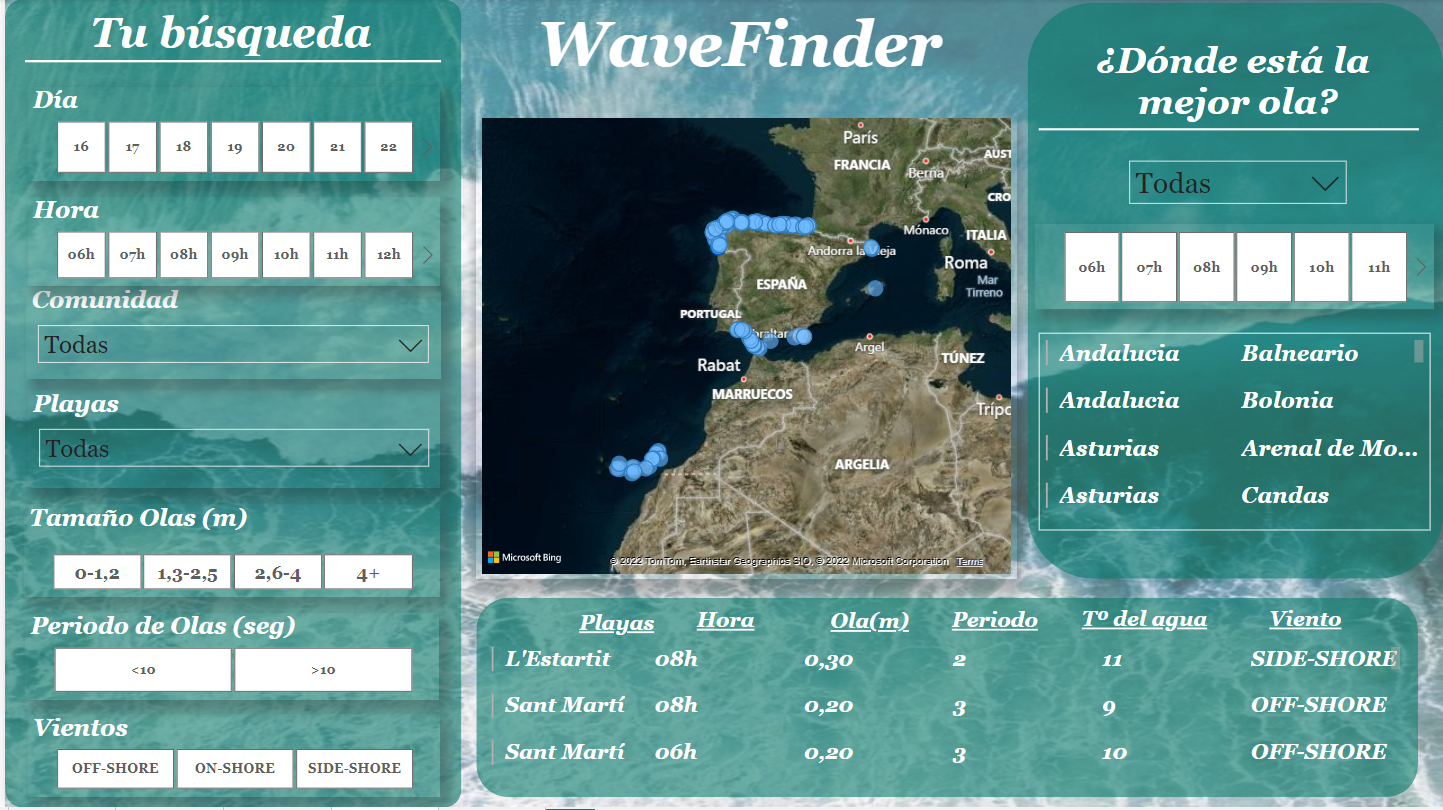

This screenshot's page, from the dashboard's own definition file:
{"tool":"powerbi","page":{"name":"Página 1","canvas":[1280,720],"ordinal":0},"visuals":[{"type":"map","fields":{"Y":["Sheet1.Latitud"],"X":["Sheet1.Longitud"],"Series":["Sheet1.Playas"]},"box":[590.6,134.6,572.7,372.2],"z":0},{"type":"shape","box":[11.4,75.7,472.9,644.3],"z":1000},{"type":"slicer","fields":{"Values":["Sheet1.Playas"]},"box":[31.4,398.6,427.1,60],"z":2000},{"type":"slicer","fields":{"Values":["Sheet1.Comunidad"]},"box":[31.4,297.1,427.1,62.9],"z":3000},{"type":"slicer","fields":{"Values":["playas.Hour"]},"box":[32.9,205.7,427.1,62.9],"z":4000},{"type":"textbox","box":[62.9,1.4,311.4,75.7],"z":5000},{"type":"textbox","box":[214.3,77.1,60,35.7],"z":6000},{"type":"textbox","box":[201.4,180,95.7,50],"z":7000},{"type":"textbox","box":[172.9,271.4,148.6,50],"z":8000},{"type":"textbox","box":[197.1,360,94.3,38.6],"z":9000},{"type":"shape","box":[495,532.5,763.8,187.5],"z":10000},{"type":"multiRowCard","fields":{"Values":["Sheet1.Playas","playas.Hour","playas.Wave","playas.Period","playas.Temperature","playas.Degrees"]},"box":[483.8,582.5,775,127.5],"z":11000},{"type":"textbox","box":[506.2,540,105,42.5],"z":12000},{"type":"textbox","box":[611.2,537.5,82.5,47.5],"z":13000},{"type":"textbox","box":[730,538.8,107.5,45],"z":14000},{"type":"textbox","box":[837.5,537.5,102.5,43.8],"z":15000},{"type":"textbox","box":[953.8,536.2,126.2,48.8],"z":16000},{"type":"textbox","box":[1120.4,536.7,127.8,51.9],"z":17000},{"type":"slicer","fields":{"Values":["playas.Date"]},"box":[32.9,112.9,424.3,67.1],"z":18000},{"type":"slicer","fields":{"Values":["playas.wave_group"]},"box":[30,484.3,427.1,61.4],"z":19000},{"type":"textbox","box":[148.6,458.6,251.4,50],"z":20000},{"type":"actionButton","box":[0,0,100,40],"z":21000},{"type":"slicer","fields":{"Values":["playas.Period_Group"]},"box":[31.4,581.4,427.1,48.6],"z":22000},{"type":"textbox","box":[131.4,550,285.7,37.1],"z":23000},{"type":"slicer","fields":{"Values":["playas.Degrees"]},"box":[31.4,645.7,428.6,64.3],"z":24000},{"type":"textbox","box":[182.9,631.4,108.6,47.1],"z":25000},{"type":"shape","box":[494.5,2.4,763.4,117],"z":26000},{"type":"slicer","fields":{"Values":["playas.Date"]},"box":[557.2,39.8,213.5,55.5],"z":26001},{"type":"multiRowCard","fields":{"Values":["Sheet1.Comunidad","Sheet1.Playas"]},"box":[837,14.5,388.3,92.9],"z":26002},{"type":"textbox","box":[512.6,2.4,317.2,45.8],"z":26003}]}

Visuals, with their boxes in screenshot pixels (x1, y1, x2, y2), scaled from the page's 1280x720 canvas onto the 1443x810 screenshot:
map - Sheet1.Latitud x Sheet1.Longitud: (left=666, top=151, right=1311, bottom=570)
shape: (left=13, top=85, right=546, bottom=809)
slicer - Sheet1.Playas: (left=35, top=448, right=517, bottom=516)
slicer - Sheet1.Comunidad: (left=35, top=334, right=517, bottom=405)
slicer - playas.Hour: (left=37, top=231, right=519, bottom=302)
textbox: (left=71, top=2, right=422, bottom=87)
textbox: (left=242, top=87, right=309, bottom=127)
textbox: (left=227, top=202, right=335, bottom=259)
textbox: (left=195, top=305, right=362, bottom=362)
textbox: (left=222, top=405, right=329, bottom=448)
shape: (left=558, top=599, right=1419, bottom=809)
multiRowCard - Sheet1.Playas x playas.Hour: (left=545, top=655, right=1419, bottom=799)
textbox: (left=571, top=608, right=689, bottom=655)
textbox: (left=689, top=605, right=782, bottom=658)
textbox: (left=823, top=606, right=944, bottom=657)
textbox: (left=944, top=605, right=1060, bottom=654)
textbox: (left=1075, top=603, right=1218, bottom=658)
textbox: (left=1263, top=604, right=1407, bottom=662)
slicer - playas.Date: (left=37, top=127, right=515, bottom=202)
slicer - playas.wave_group: (left=34, top=545, right=515, bottom=614)
textbox: (left=168, top=516, right=451, bottom=572)
actionButton: (left=0, top=0, right=113, bottom=45)
slicer - playas.Period_Group: (left=35, top=654, right=517, bottom=709)
textbox: (left=148, top=619, right=470, bottom=660)
slicer - playas.Degrees: (left=35, top=726, right=519, bottom=799)
textbox: (left=206, top=710, right=329, bottom=763)
shape: (left=557, top=3, right=1418, bottom=134)
slicer - playas.Date: (left=628, top=45, right=869, bottom=107)
multiRowCard - Sheet1.Comunidad x Sheet1.Playas: (left=944, top=16, right=1381, bottom=121)
textbox: (left=578, top=3, right=935, bottom=54)
